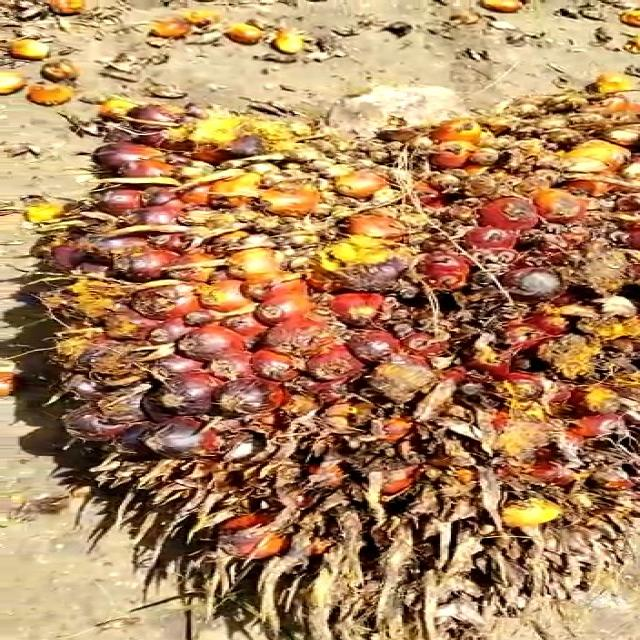palm oil: (34, 97, 640, 632)
